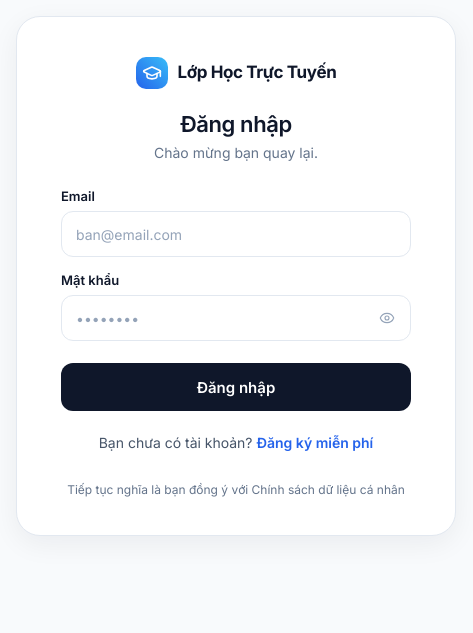
Scenario: LoginPage return-to handling (R17-01) › shows a login failure inline and keeps the form
The width and height of the screenshot is (473, 633).
Type "a@test.local" into the field labelled "Email".
click(236, 234); type("a@test.local")  # box [61,211,411,257]
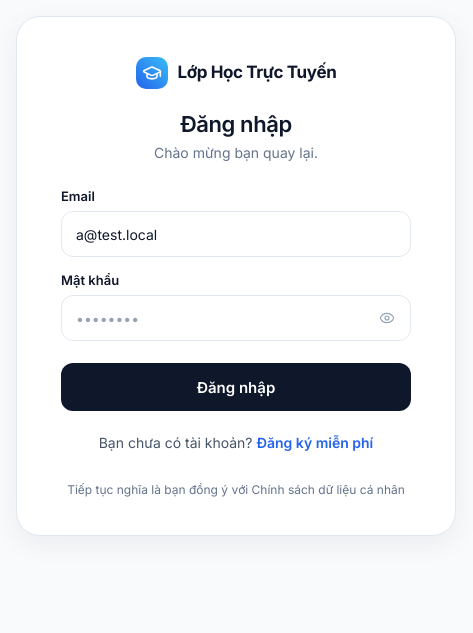
Type "wrong-pass" into the password field labelled "Mật khẩu".
click(236, 318); type("wrong-pass")  # box [61,295,411,341]
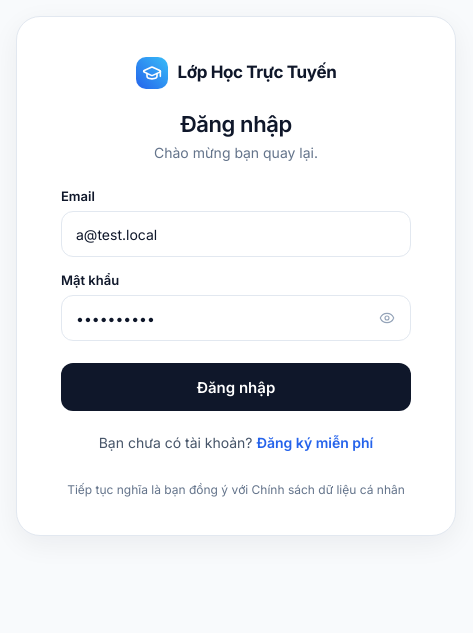
Click the button "Đăng nhập".
click(236, 387)  # box [61,363,411,411]
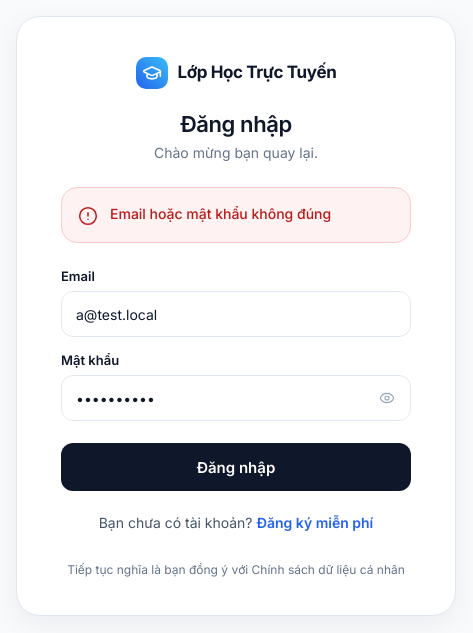
Expected: the message reads "Email hoặc mật khẩu không đúng", [110,205,331,222]
